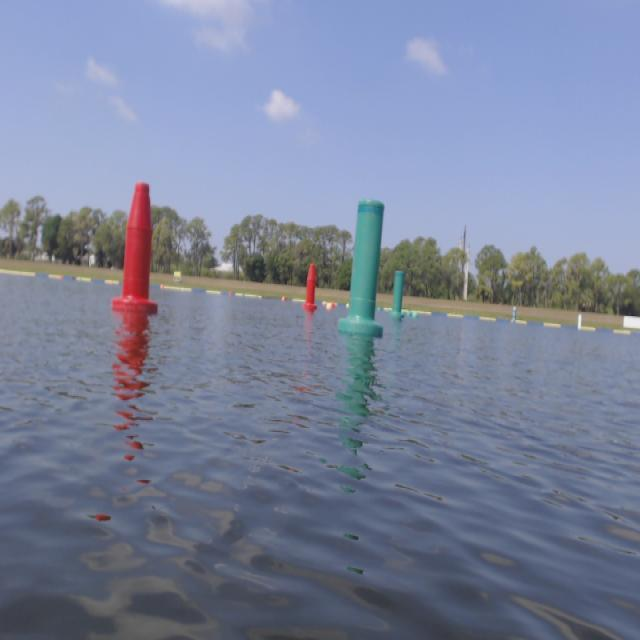Green_Buoy: (353, 202, 385, 342), (392, 268, 402, 330)
Red_Buoy: (123, 187, 160, 320), (298, 265, 327, 323)
